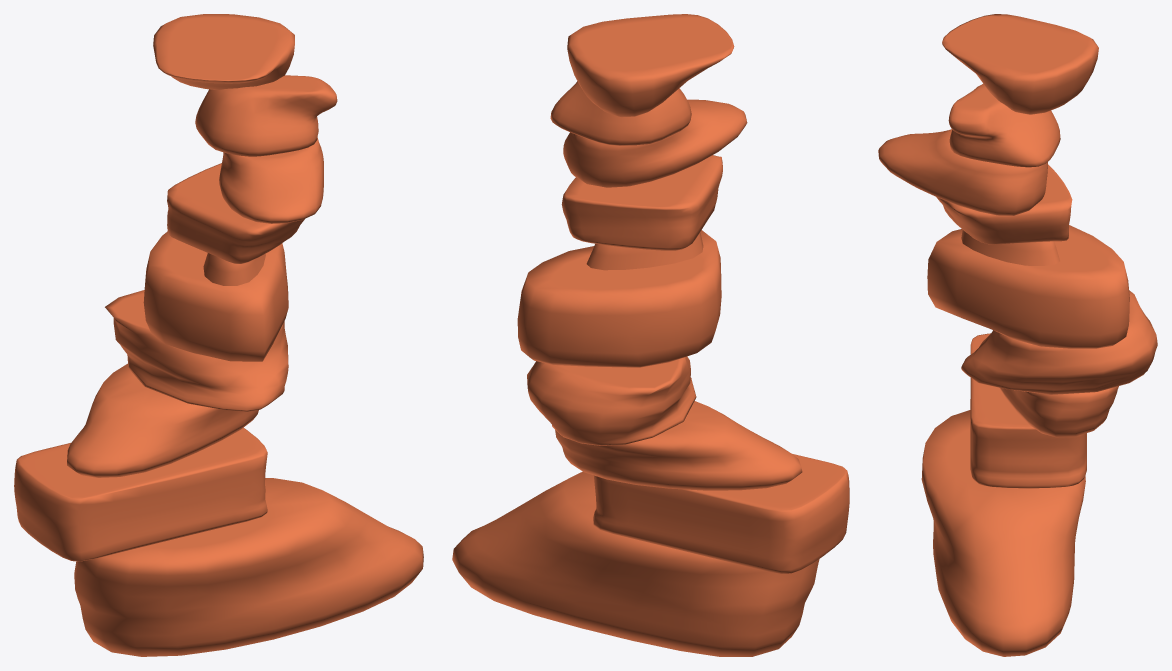
File: RockTower.fbx
3 renders of one model, left to right at view 1: azimuth 30°, elevation 25°; view 2: azimuth 150°, elevation 25°; view 3: azimuth 270°, elevation 25°, orthographic. The views are drawn at different scales.
Visible parts, largest first — view 1: BaseShoe, Rectangle, Weird2, Shoe, Weird, Ledgy, FroggoStone, Shoe2, Angular, Smallsupport; view 2: BaseShoe, Weird2, Rectangle, Shoe, Ledgy, Weird, Angular, Shoe2, FroggoStone, Smallsupport; view 3: BaseShoe, Weird2, Ledgy, Weird, Rectangle, Shoe2, FroggoStone, Angular, Shoe, Smallsupport.
Boxes of the visible parts, x1=… form: BaseShoe: x1=74, y1=478, x2=423, y2=656; Rectangle: x1=14, y1=427, x2=267, y2=561; Weird2: x1=143, y1=231, x2=288, y2=361; Shoe: x1=67, y1=363, x2=258, y2=477; Weird: x1=105, y1=290, x2=288, y2=411; Ledgy: x1=153, y1=14, x2=294, y2=89; FroggoStone: x1=195, y1=75, x2=337, y2=156; Shoe2: x1=219, y1=137, x2=323, y2=223; Angular: x1=167, y1=163, x2=304, y2=263; Smallsupport: x1=203, y1=253, x2=265, y2=285; BaseShoe: x1=452, y1=471, x2=819, y2=656; Weird2: x1=517, y1=230, x2=721, y2=367; Rectangle: x1=593, y1=454, x2=849, y2=573; Shoe: x1=555, y1=401, x2=802, y2=490; Ledgy: x1=567, y1=14, x2=734, y2=117; Weird: x1=527, y1=356, x2=696, y2=445; Angular: x1=561, y1=155, x2=722, y2=250; Shoe2: x1=563, y1=99, x2=747, y2=187; FroggoStone: x1=550, y1=81, x2=691, y2=145; Smallsupport: x1=586, y1=232, x2=703, y2=270; BaseShoe: x1=921, y1=410, x2=1085, y2=656; Weird2: x1=927, y1=225, x2=1129, y2=348; Ledgy: x1=942, y1=14, x2=1098, y2=114; Weird: x1=961, y1=290, x2=1157, y2=394; Rectangle: x1=970, y1=333, x2=1086, y2=488; Shoe2: x1=878, y1=129, x2=1047, y2=215; FroggoStone: x1=948, y1=83, x2=1060, y2=167; Angular: x1=936, y1=164, x2=1072, y2=244; Shoe: x1=999, y1=386, x2=1118, y2=437; Smallsupport: x1=961, y1=230, x2=1059, y2=265.
Size of the model in its own units: 10.59 by 22.08 by 15.5.
